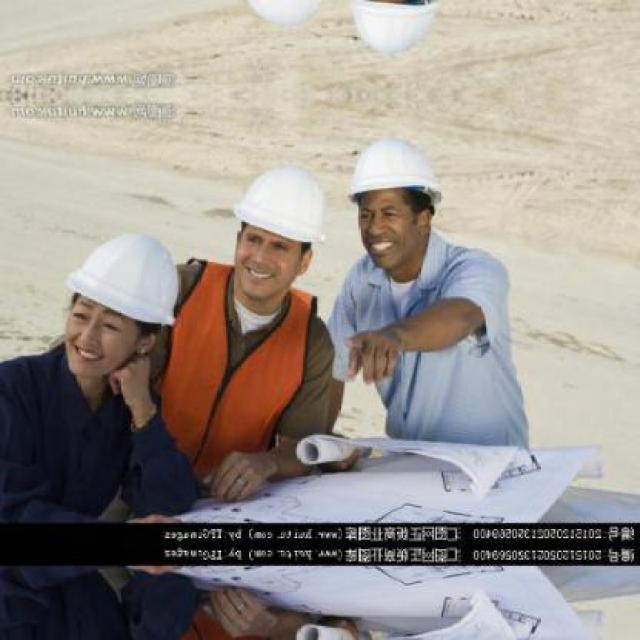Reflective-Jacket: (157, 262, 321, 492)
Safety-Helmet: (61, 225, 188, 330), (221, 159, 334, 256), (337, 129, 452, 216)
